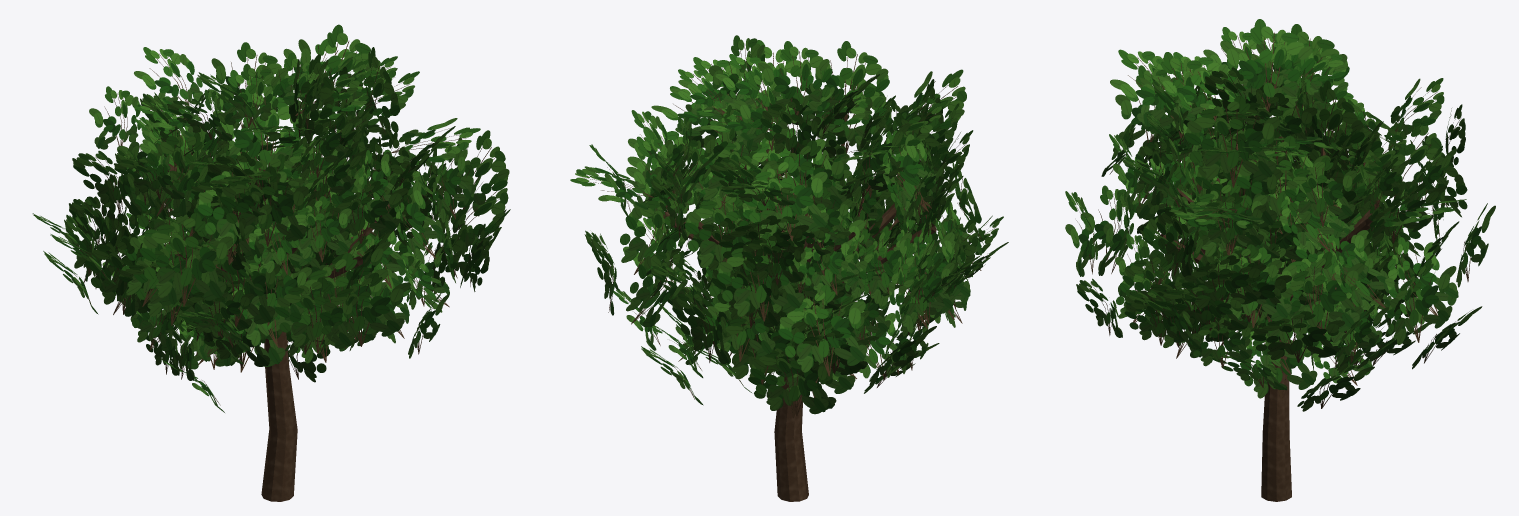
File: broadleaf_m_near.glb
3 views of the same model, side by side, from view 1: azimuth 30°, elevation 25°; view 2: azimuth 150°, elevation 25°; view 3: azimuth 270°, elevation 25° (orthographic). The views are drawn at different scales.
Parts seen in each view (by area): view 1: broadleaf_m_near; view 2: broadleaf_m_near; view 3: broadleaf_m_near.
Boxes of the visible parts, x1,y1,x2,y2 form: broadleaf_m_near: [32, 24, 510, 501]; broadleaf_m_near: [570, 35, 1008, 501]; broadleaf_m_near: [1065, 19, 1495, 501].
Size of the model in its own units: 9.66 by 9.73 by 8.94.
2 materials, 2 textured.
